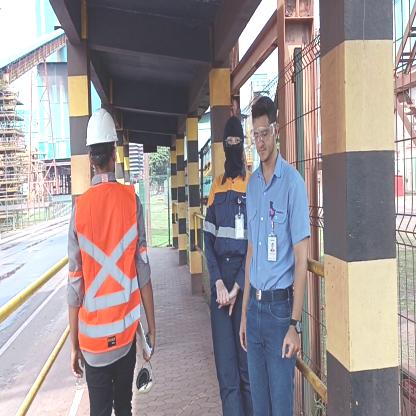Balaclava: (222, 118, 242, 168)
Capacete: (84, 103, 120, 143)
Operacional: (204, 173, 249, 257)
colete: (72, 191, 145, 341)
